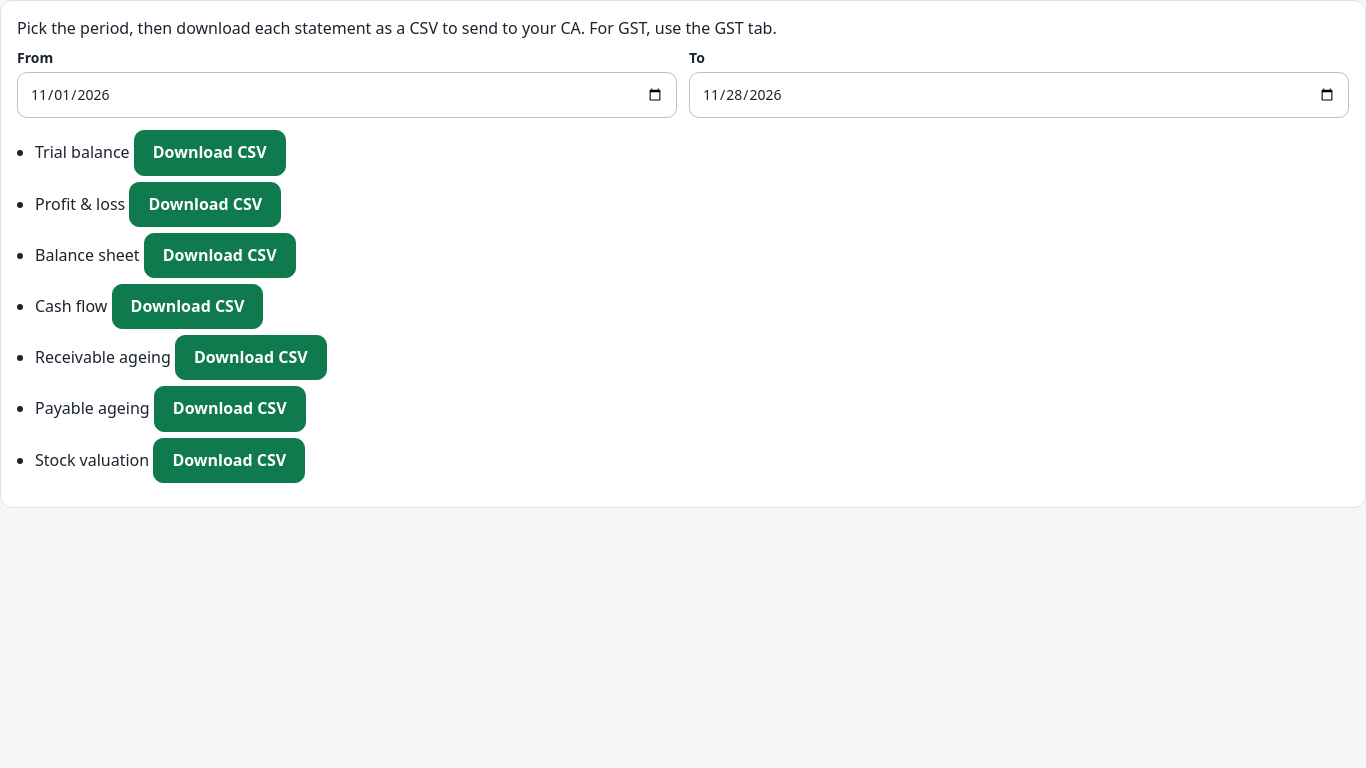
Test case: CaWorkspace (G6) › says there is nothing to export when the report is empty
This screenshot has width=1366, height=768.
Step 1. Click the button "Download CSV" next to "Trial balance" → click(210, 153), box [134,130,286,176]
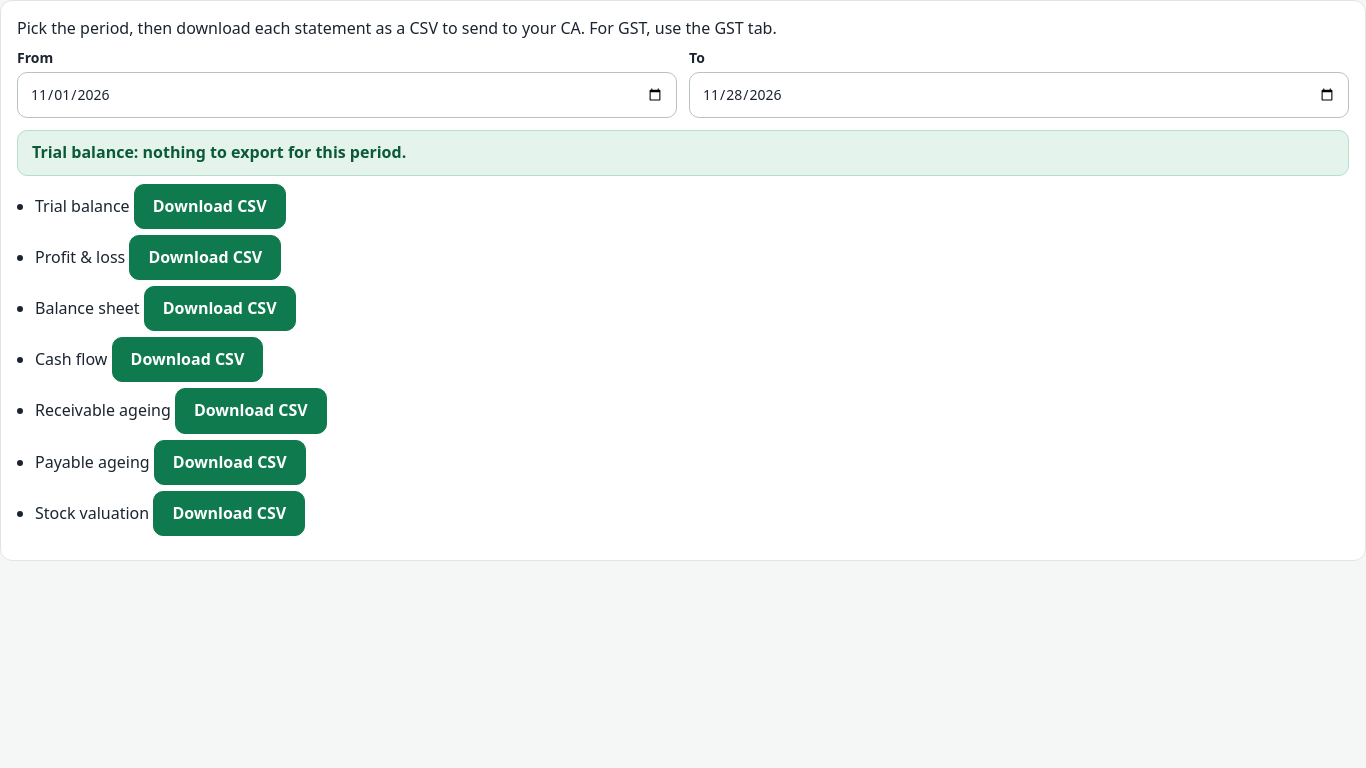
Check: the message shows "nothing to export", box [32,142,406,164]
